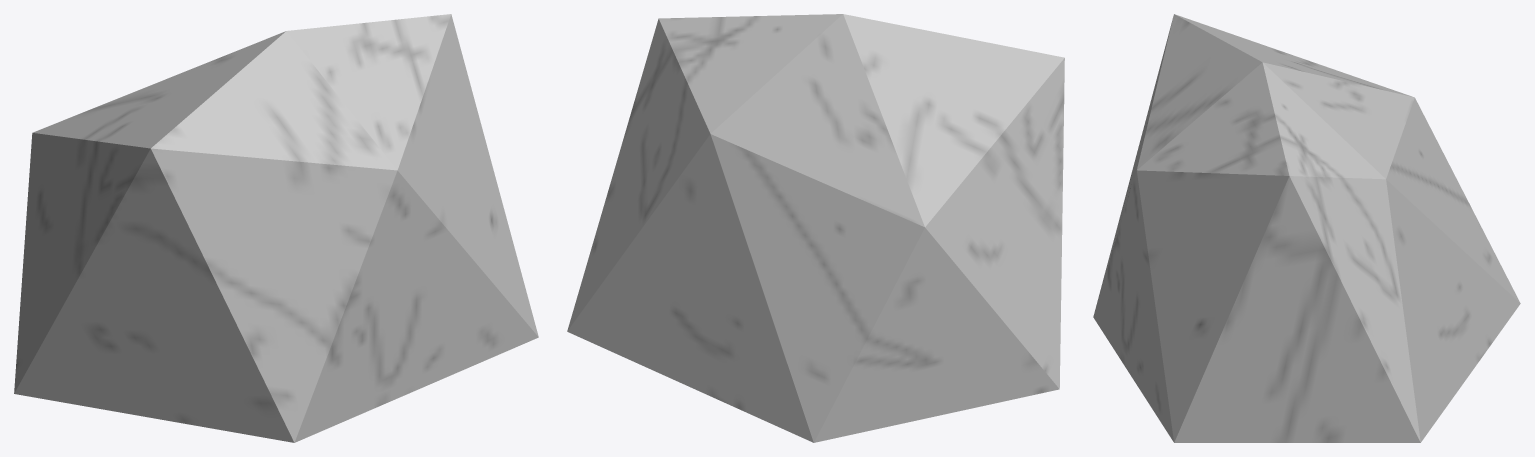
File: rock_3.glb
The picture shows the model from 3 angles, left to right: view 1: azimuth 30°, elevation 25°; view 2: azimuth 150°, elevation 25°; view 3: azimuth 270°, elevation 25°; orthographic projection. The views are drawn at different scales.
Parts seen in each view (by area): view 1: Icosphere.002; view 2: Icosphere.002; view 3: Icosphere.002.
Boxes of the visible parts, left/top/right/bottom form: Icosphere.002: left=14, top=14, right=538, bottom=442; Icosphere.002: left=567, top=14, right=1064, bottom=442; Icosphere.002: left=1093, top=14, right=1520, bottom=442.
Size of the model in its own units: 0.5153 by 0.3502 by 0.4636.
Materials: 1 (1 with a texture image).
